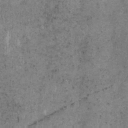finishing roll printing: (27, 104, 67, 126), (78, 83, 114, 102)
